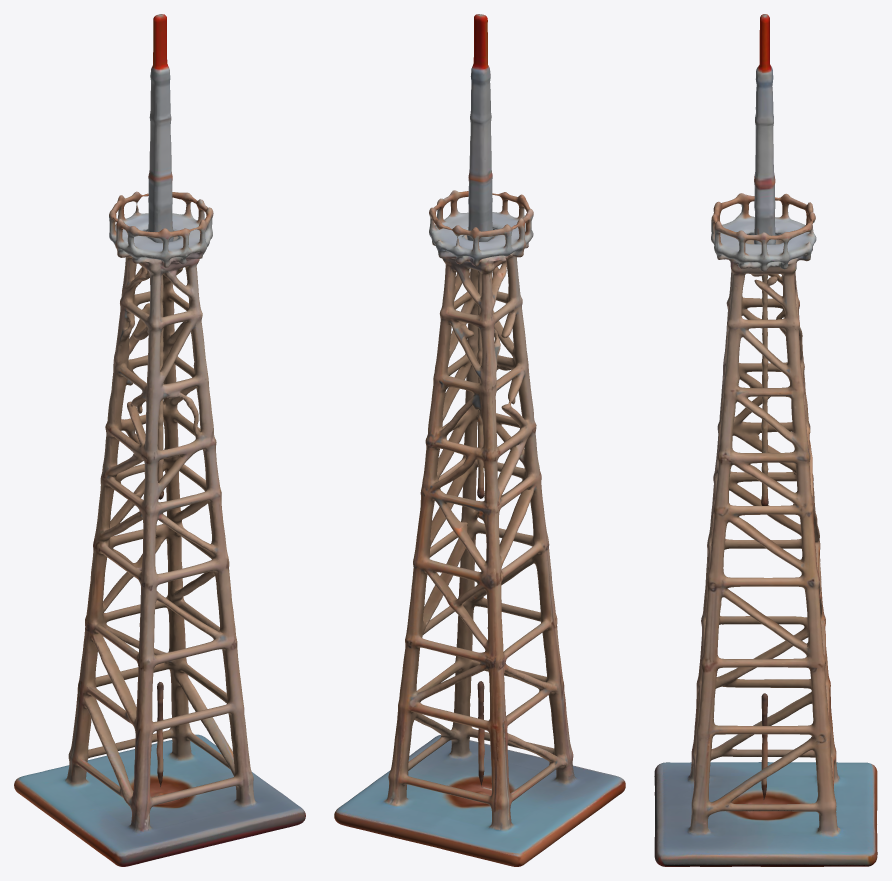
File: radio_tower.glb
3 renders of one model, left to right at view 1: azimuth 30°, elevation 25°; view 2: azimuth 150°, elevation 25°; view 3: azimuth 270°, elevation 25°, orthographic.
Parts seen in each view (by area): view 1: tripo_node_5e68cf3f-9969-4bf7-a29c-03a1d41175d1; view 2: tripo_node_5e68cf3f-9969-4bf7-a29c-03a1d41175d1; view 3: tripo_node_5e68cf3f-9969-4bf7-a29c-03a1d41175d1.
Boxes of the visible parts, <box> form: tripo_node_5e68cf3f-9969-4bf7-a29c-03a1d41175d1: <box>14,14,305,866</box>; tripo_node_5e68cf3f-9969-4bf7-a29c-03a1d41175d1: <box>334,14,625,866</box>; tripo_node_5e68cf3f-9969-4bf7-a29c-03a1d41175d1: <box>654,14,877,866</box>.
Bounding box in the file's own units: 0.2348 × 0.9331 × 0.2335.
Materials: 1 (1 with a texture image).
